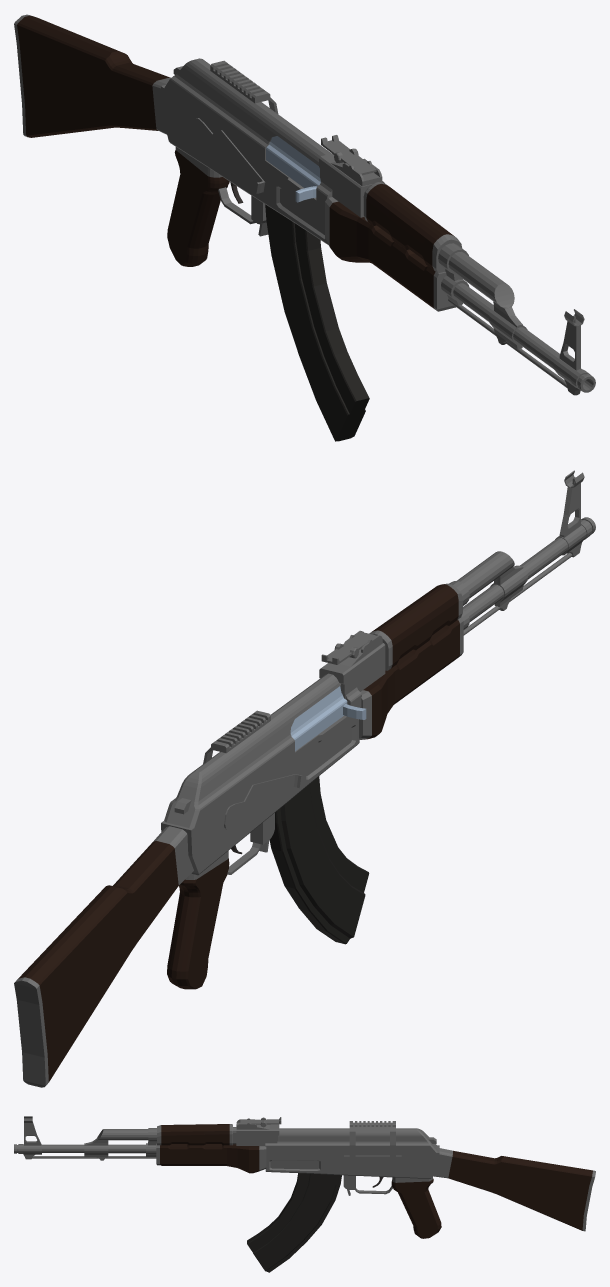
3 views of the same model, one above another, from view 1: azimuth 30°, elevation 25°; view 2: azimuth 150°, elevation 25°; view 3: azimuth 270°, elevation 25° (orthographic). The views are drawn at different scales.
Visible parts, largest first — view 1: ak47; view 2: ak47; view 3: ak47.
Boxes of the visible parts, bbox=[...] form: ak47: bbox=[14, 14, 595, 441]; ak47: bbox=[14, 470, 595, 1087]; ak47: bbox=[14, 1116, 595, 1272].
Size of the model in its own units: 0.0498 by 0.2567 by 0.88.
Materials: 5 (5 with a texture image).
